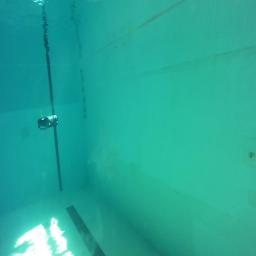Side: (38, 114, 58, 130)
